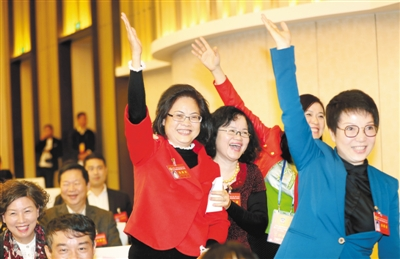handsup: (256, 10, 399, 259), (116, 9, 234, 254)
